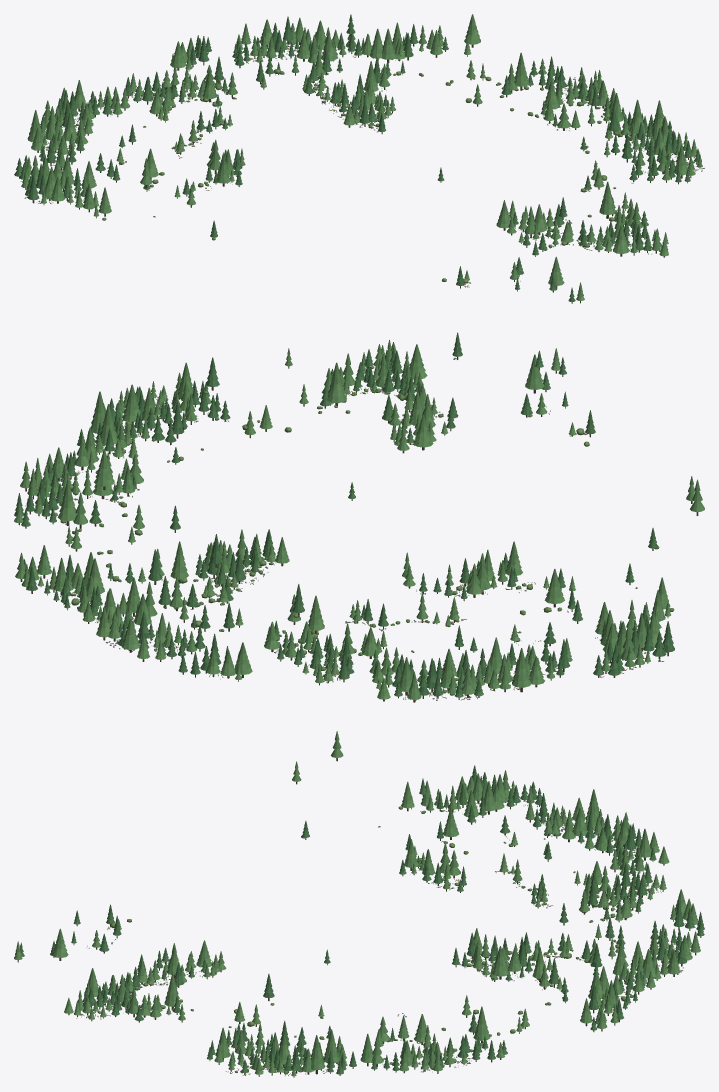
The model's file is Foliage_P1.fbx.
3 views of the same model, one above another, from view 1: azimuth 30°, elevation 25°; view 2: azimuth 150°, elevation 25°; view 3: azimuth 270°, elevation 25° (orthographic). The views are drawn at different scales.
Size of the model in its own units: 47949 by 7887 by 50800.
